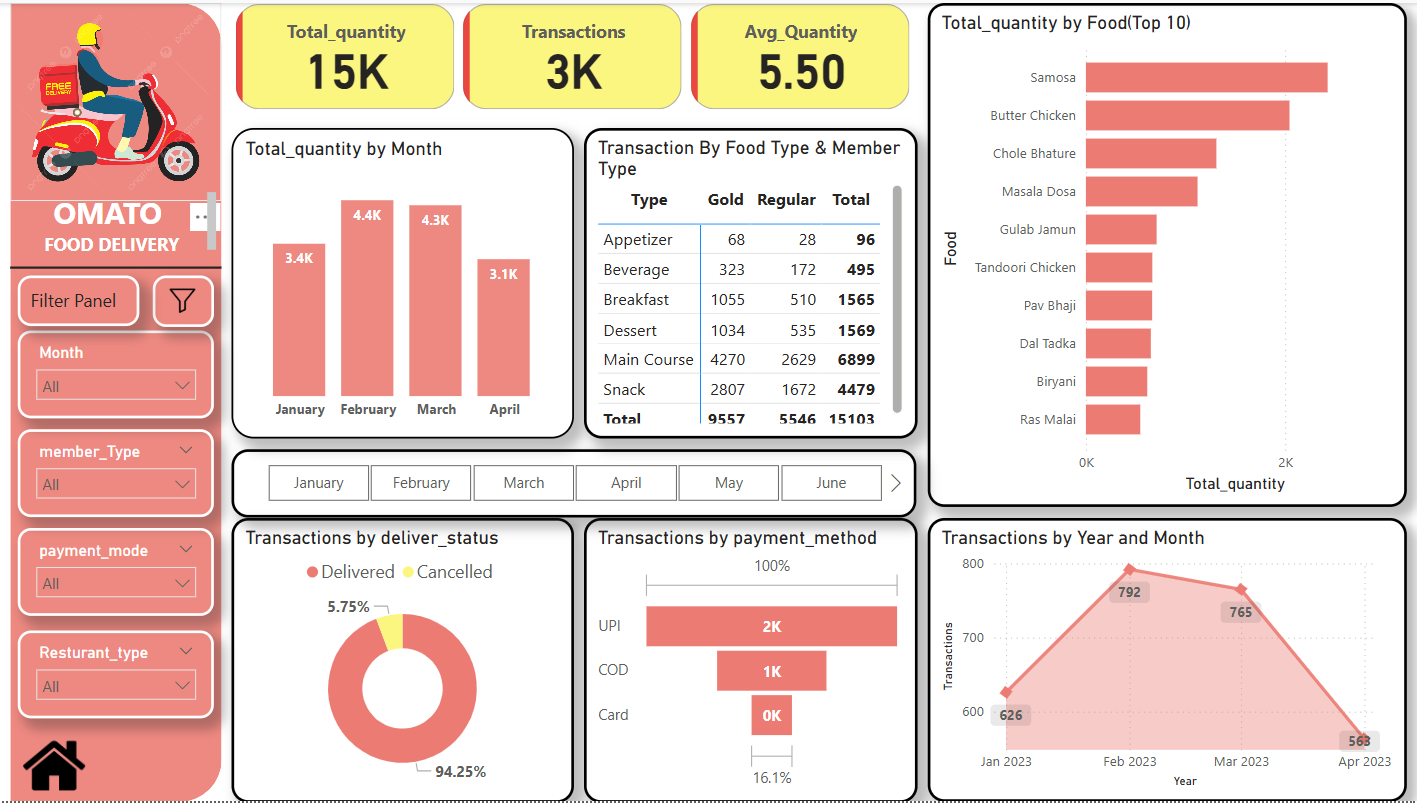

The page's visual inventory and layout, read from the dashboard file:
{"tool":"powerbi","page":{"name":"Omato Dashboard","canvas":[1280,720],"ordinal":0},"visuals":[{"type":"shape","box":[9.6,0,190.7,720.4],"z":0},{"type":"image","box":[9.6,0,190.7,179.8],"z":1000},{"type":"textbox","box":[9.6,166,190.7,64.5],"z":2000},{"type":"shape","box":[9.6,230.5,190.7,15.1],"z":3000},{"type":"cardVisual","fields":{"Data":["Sales Data.Total_quantity","Sales Data.Transactions","Sales Data.Avg_Quantity"]},"box":[209.9,0,617.5,101.5],"z":4000},{"type":"clusteredColumnChart","fields":{"Y":["Sales Data.Total_quantity"],"Category":["Sales Data.orderDate.Variation.Date Hierarchy.Month"]},"box":[209.9,112.5,308.7,279.9],"z":5000},{"type":"pivotTable","title":"Transaction By  Food Type & Member Type","fields":{"Columns":["Customer Details.member_Type"],"Rows":["Food_Details.Type"],"Values":["Sales Data.Total_quantity"]},"box":[526.9,112.5,300.5,279.9],"z":6000},{"type":"donutChart","fields":{"Category":["Sales Data.deliver_status"],"Y":["Sales Data.Transactions"]},"box":[209.9,463.8,308.7,256.6],"z":7000},{"type":"funnel","fields":{"Category":["Sales Data.payment_method"],"Y":["Sales Data.Transactions"]},"box":[526.9,463.8,300.5,256.6],"z":8000},{"type":"clusteredBarChart","title":"Total_quantity by Food(Top 10)","fields":{"Category":["Food_Details.Food"],"Y":["Sales Data.Total_quantity"]},"box":[837.1,0,432.2,454.2],"z":9000},{"type":"lineChart","fields":{"Y":["Sales Data.Transactions"],"Category":["Sales Data.orderDate.Variation.Date Hierarchy.Year","Sales Data.orderDate.Variation.Date Hierarchy.Month"]},"box":[837,464,432,256],"z":10000},{"type":"slicer","fields":{"Values":["Sales Data.orderDate.Variation.Date Hierarchy.Month"]},"box":[16.5,295,177,79.6],"z":11000},{"type":"slicer","fields":{"Values":["Customer Details.member_Type"]},"box":[16.5,384.2,177,79.6],"z":12000},{"type":"slicer","fields":{"Values":["Sales Data.payment_method"]},"box":[16.5,473.4,177,79.6],"z":13000},{"type":"slicer","fields":{"Values":["Resturant_Details.Resturant_type"]},"box":[16.5,565.4,177,79.6],"z":14000},{"type":"slicer","fields":{"Values":["Sales Data.orderDate.Variation.Date Hierarchy.Month"]},"box":[209.9,402.1,617.5,61.7],"z":15000},{"type":"image","box":[138.6,245.6,54.9,46.7],"z":16000},{"type":"textbox","box":[16.5,245.6,109.8,45.3],"z":17000},{"type":"image","box":[16.5,654.5,65.9,65.9],"z":18000}]}

Visuals, with their boxes in screenshot pixels (x1, y1, x2, y2), scaled from the page's 1280x720 canvas onto the 1417x811 screenshot:
shape: 11,0,222,810
image: 11,0,222,203
textbox: 11,187,222,260
shape: 11,260,222,277
cardVisual - Sales Data.Total_quantity x Sales Data.Transactions: 232,0,916,114
clusteredColumnChart - Sales Data.Total_quantity x Sales Data.orderDate.Variation.Date Hierarchy.Month: 232,127,574,442
"Transaction By  Food Type & Member Type" pivotTable: 583,127,916,442
donutChart - Sales Data.deliver_status x Sales Data.Transactions: 232,522,574,810
funnel - Sales Data.payment_method x Sales Data.Transactions: 583,522,916,810
"Total_quantity by Food(Top 10)" clusteredBarChart: 927,0,1405,512
lineChart - Sales Data.Transactions x Sales Data.orderDate.Variation.Date Hierarchy.Year: 927,523,1405,810
slicer - Sales Data.orderDate.Variation.Date Hierarchy.Month: 18,332,214,422
slicer - Customer Details.member_Type: 18,433,214,522
slicer - Sales Data.payment_method: 18,533,214,623
slicer - Resturant_Details.Resturant_type: 18,637,214,727
slicer - Sales Data.orderDate.Variation.Date Hierarchy.Month: 232,453,916,522
image: 153,277,214,329
textbox: 18,277,140,328
image: 18,737,91,810
